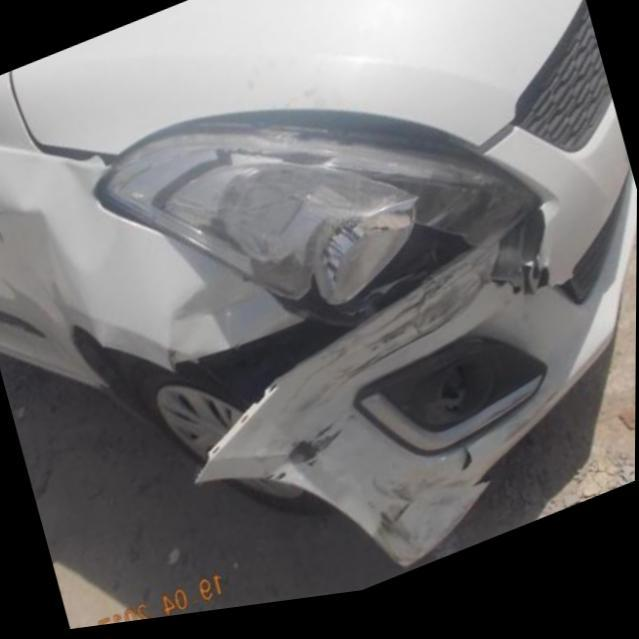crack: (365, 473, 484, 583), (493, 221, 573, 330), (275, 424, 343, 481), (460, 457, 474, 487)
dent: (0, 209, 97, 347), (163, 281, 286, 367)
dislocated part: (166, 259, 474, 484)
lamp broken: (274, 186, 474, 342), (370, 353, 549, 460)
rub: (274, 266, 496, 427)
